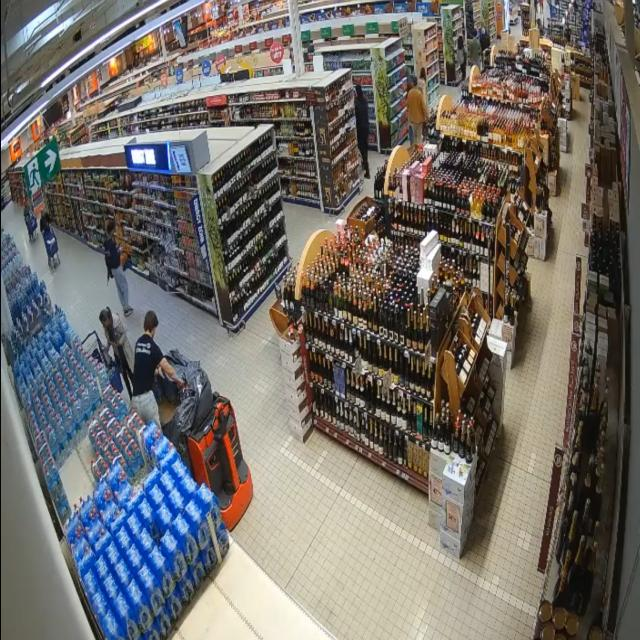article: (99, 343, 108, 355)
hands: (176, 379, 185, 388), (155, 366, 162, 376), (110, 342, 119, 349)
person: (132, 311, 182, 426), (99, 307, 134, 397), (104, 221, 132, 316), (407, 75, 428, 146), (355, 85, 370, 178), (468, 30, 481, 68), (457, 35, 466, 81)
